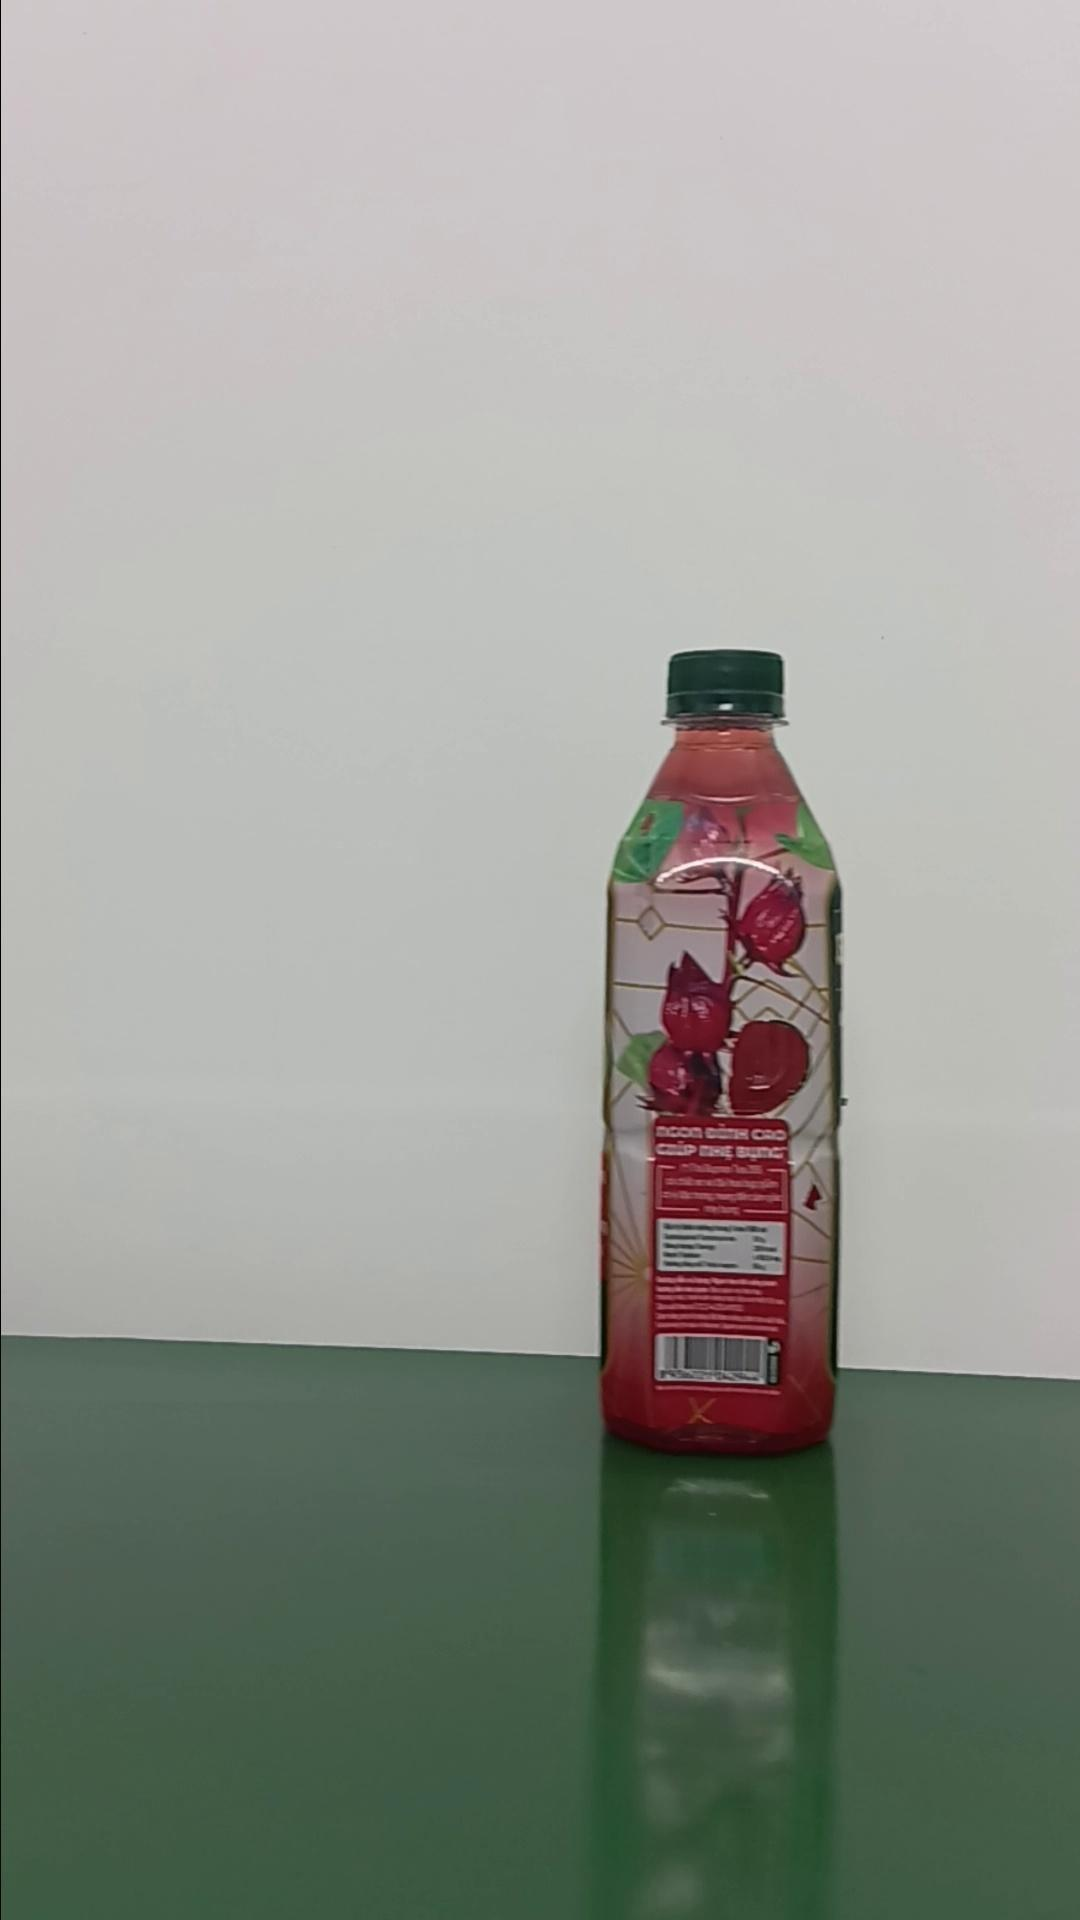loi rach va lap chai: (592, 647, 851, 1466)
